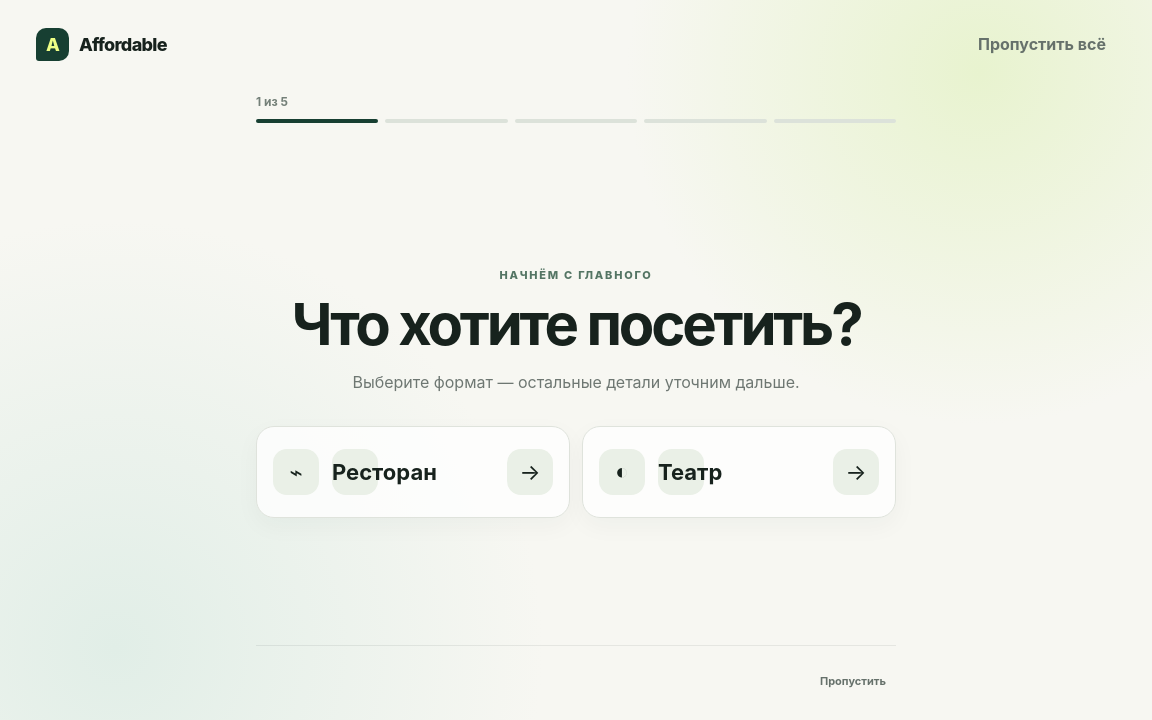
Test: SearchWizard › starts with the visit question and advances after an answer
Expected: the heading "Что хотите посетить?" is shown, 256,294 -> 896,354
What coordinates should you click on to do the following:
click the button "⌁ Ресторан →"
I would click on:
 (296, 472)
Its box is 256,426 -> 570,518.
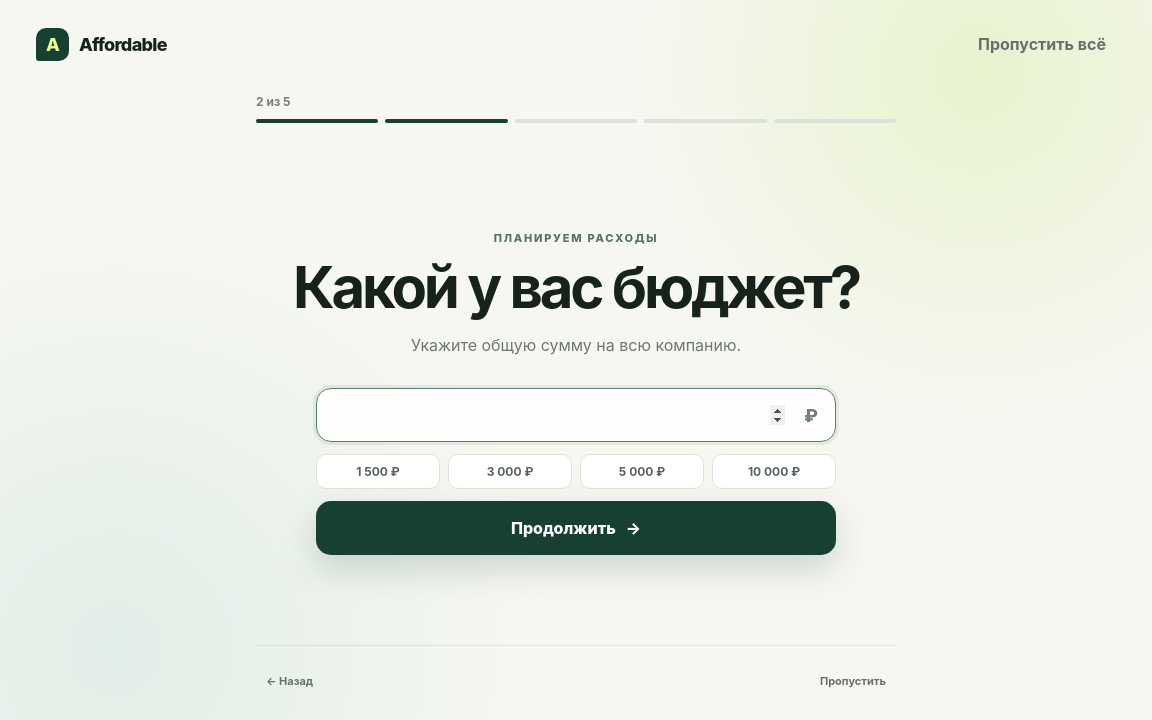
Now the heading "Какой у вас бюджет?" is shown, box 256,256 -> 896,317
Now the text "2 из 5" is shown, box 256,94 -> 290,109
